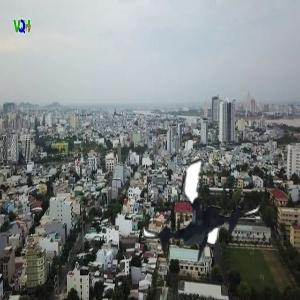drone: (141, 145, 268, 272)
